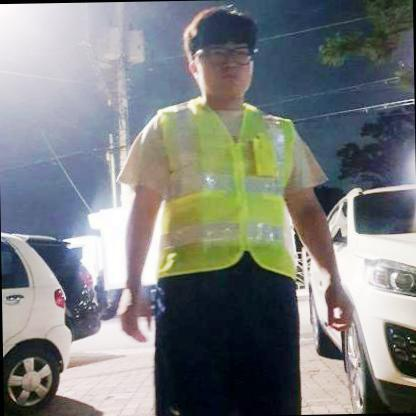no-helmet: (180, 8, 258, 70)
vest: (152, 96, 304, 285)
